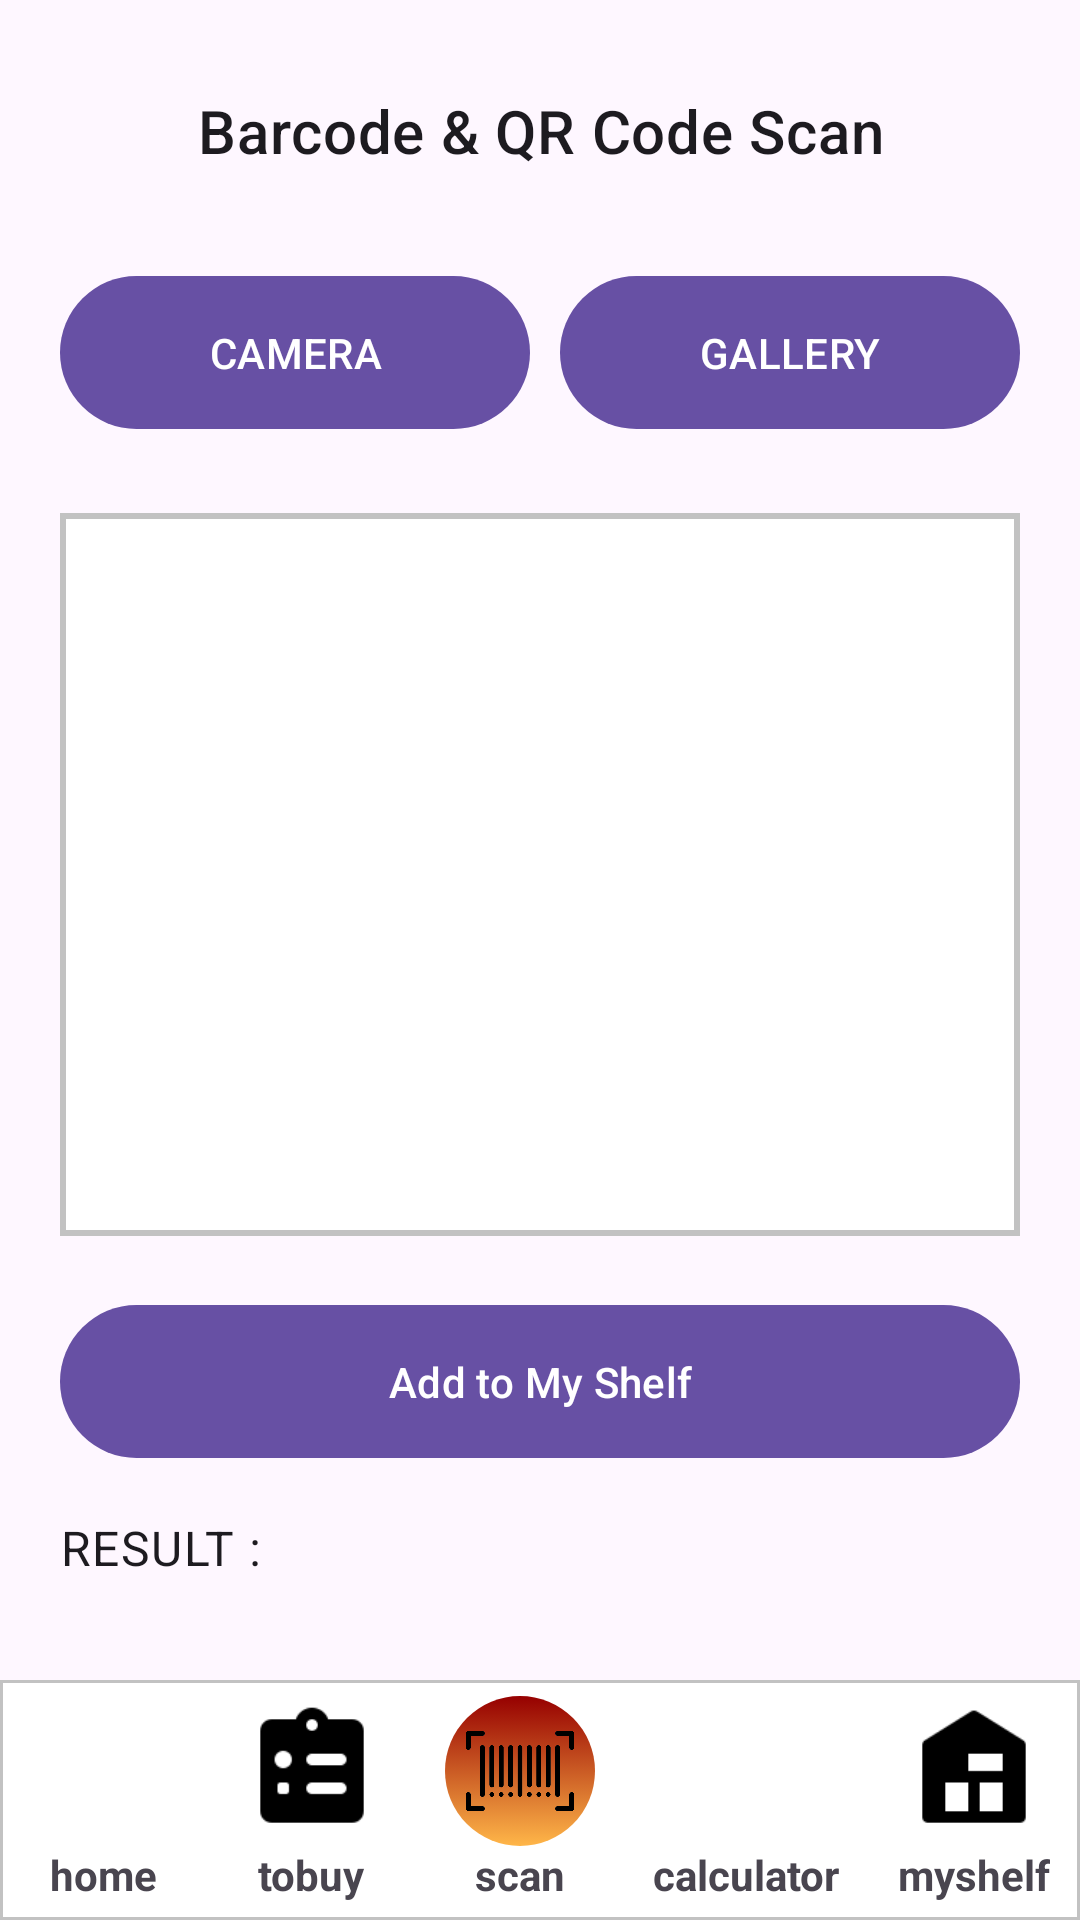

Icons on this 1080px×1920px Android screen, each with the point to tap as (x,y):
barcode: (520,1771)
